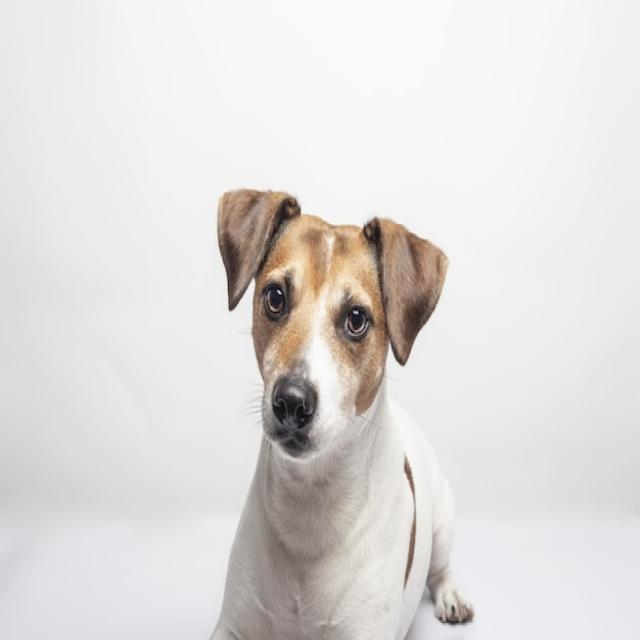Dog: (218, 188, 473, 640)
